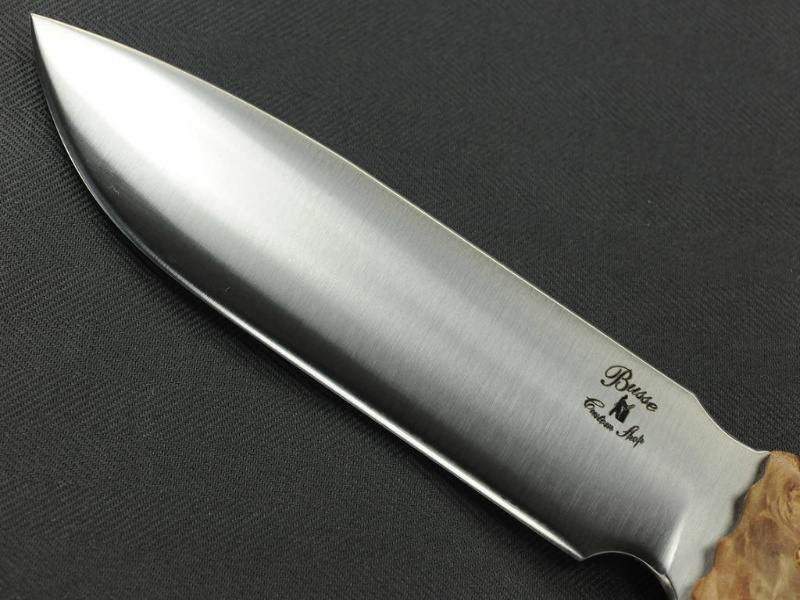knife: (27, 6, 799, 599)
